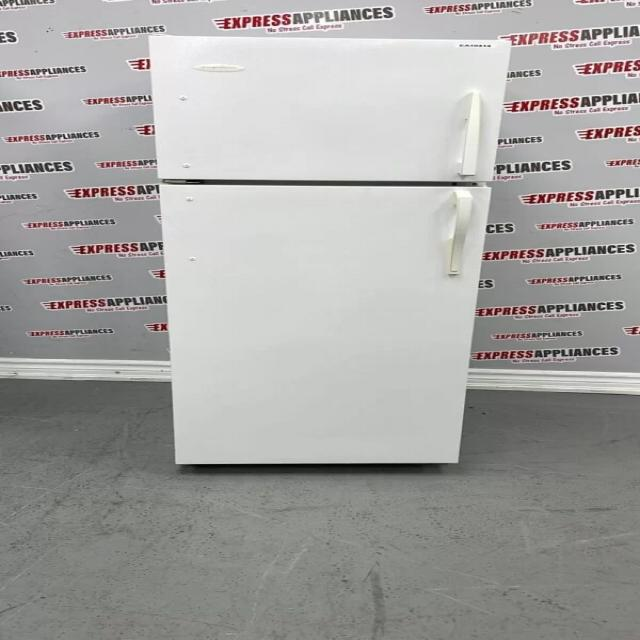refrigerator: (146, 31, 516, 463)
